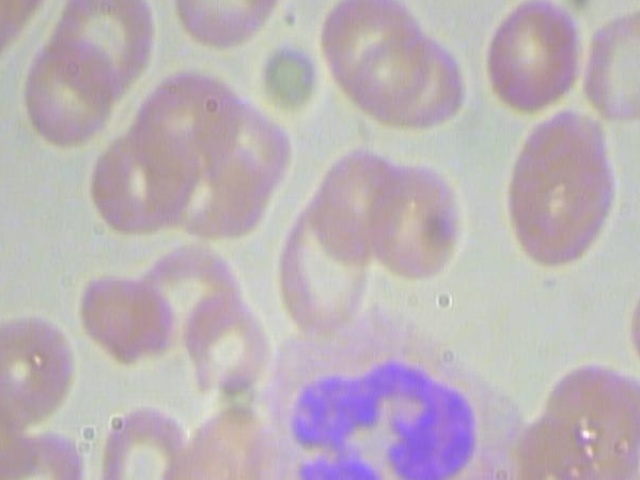RBC: (496, 106, 630, 276), (357, 157, 476, 288), (472, 0, 583, 122), (13, 34, 126, 153), (313, 0, 431, 112), (85, 119, 193, 238), (192, 97, 302, 200), (174, 292, 273, 399), (76, 269, 177, 369), (168, 144, 271, 241), (52, 0, 153, 91), (162, 0, 299, 59), (526, 311, 528, 313)
WBC: (249, 299, 534, 480)
